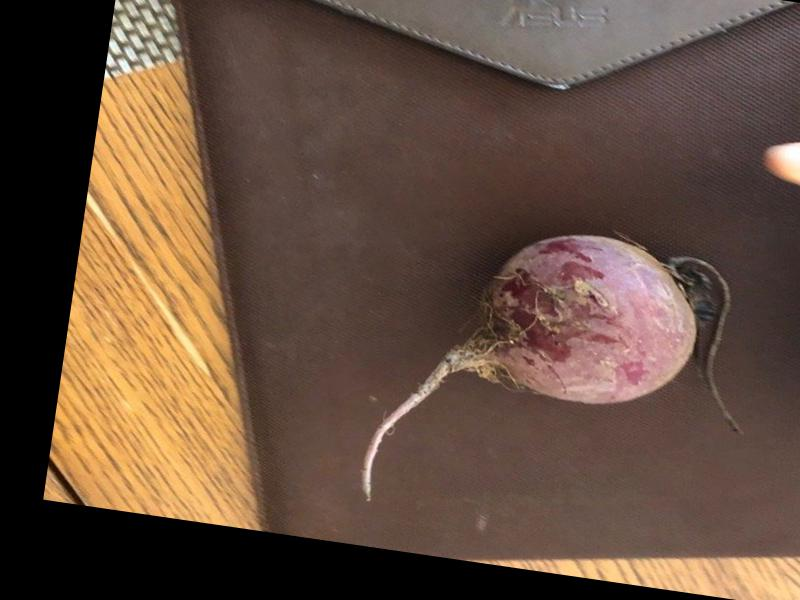Beet: (357, 207, 764, 550)
